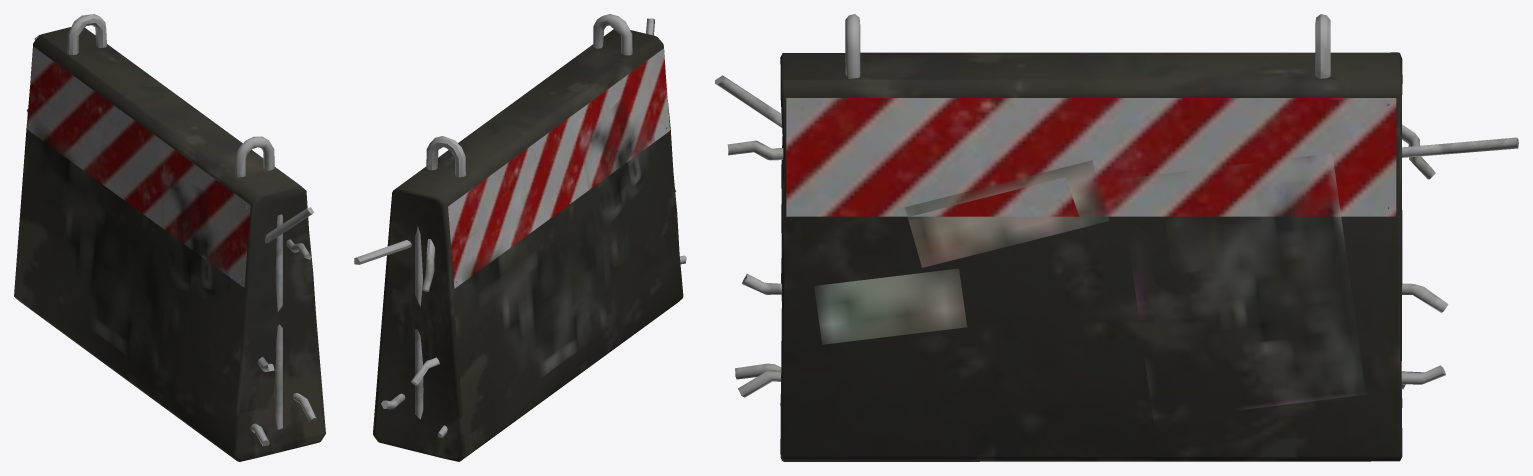
File: KB3D_NEC_BldgSM_A_ConcreteBarrier.glb
The picture shows the model from 3 angles, left to right: view 1: azimuth 30°, elevation 25°; view 2: azimuth 150°, elevation 25°; view 3: azimuth 270°, elevation 25°; orthographic projection. The views are drawn at different scales.
Parts seen in each view (by area): view 1: KB3D_NEC_BldgSM_A_ConcreteBarrier; view 2: KB3D_NEC_BldgSM_A_ConcreteBarrier; view 3: KB3D_NEC_BldgSM_A_ConcreteBarrier.
Part boxes in pixels (x1=…): KB3D_NEC_BldgSM_A_ConcreteBarrier: x1=14, y1=14, x2=325, y2=461; KB3D_NEC_BldgSM_A_ConcreteBarrier: x1=354, y1=14, x2=686, y2=461; KB3D_NEC_BldgSM_A_ConcreteBarrier: x1=715, y1=14, x2=1518, y2=461.
Bounding box in the file's own units: 0.3692 × 1.13 × 1.96.
4 materials, 4 textured.
